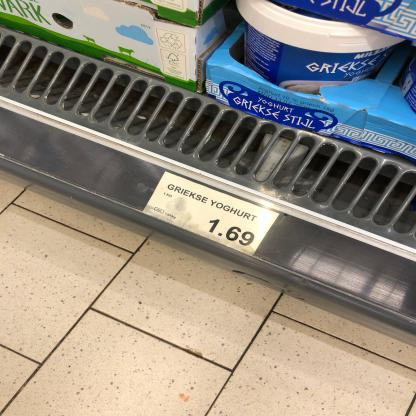prtg: (143, 172, 280, 257)
